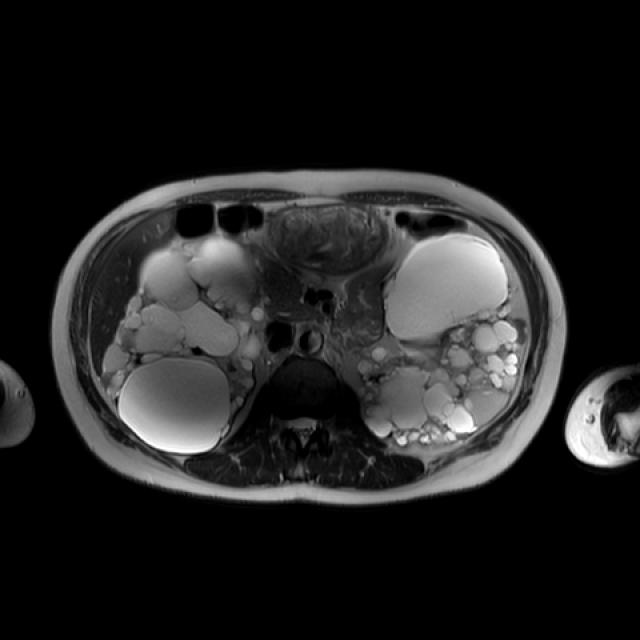sag: (102, 234, 266, 454)
sol: (356, 230, 526, 451)
